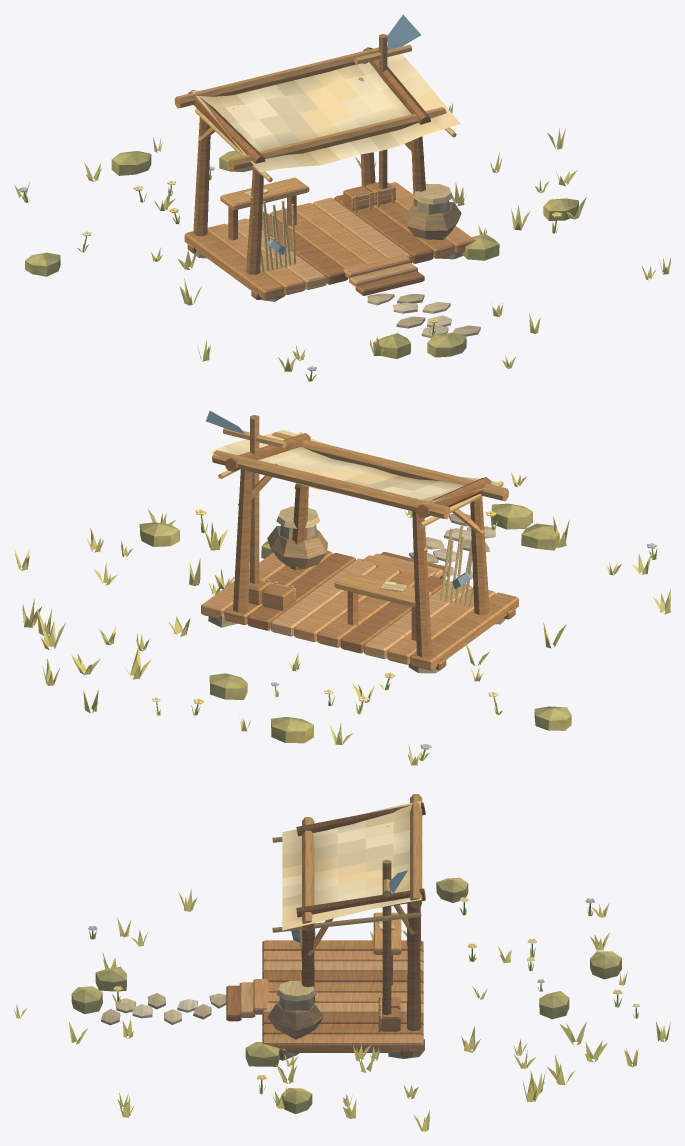
Rendered from watch_wind.glb.
3 renders of one model, top to bottom at view 1: azimuth 30°, elevation 25°; view 2: azimuth 150°, elevation 25°; view 3: azimuth 270°, elevation 25°, orthographic. The views are drawn at different scales.
Parts seen in each view (by area): view 1: Wegwacht · wind; view 2: Wegwacht · wind; view 3: Wegwacht · wind.
Boxes of the visible parts, bbox=[...] form: Wegwacht · wind: bbox=[14, 14, 670, 381]; Wegwacht · wind: bbox=[14, 411, 670, 765]; Wegwacht · wind: bbox=[14, 794, 670, 1131].
Size of the model in its own units: 9.4 by 3.36 by 10.18.
Materials: 4 (3 with a texture image).
